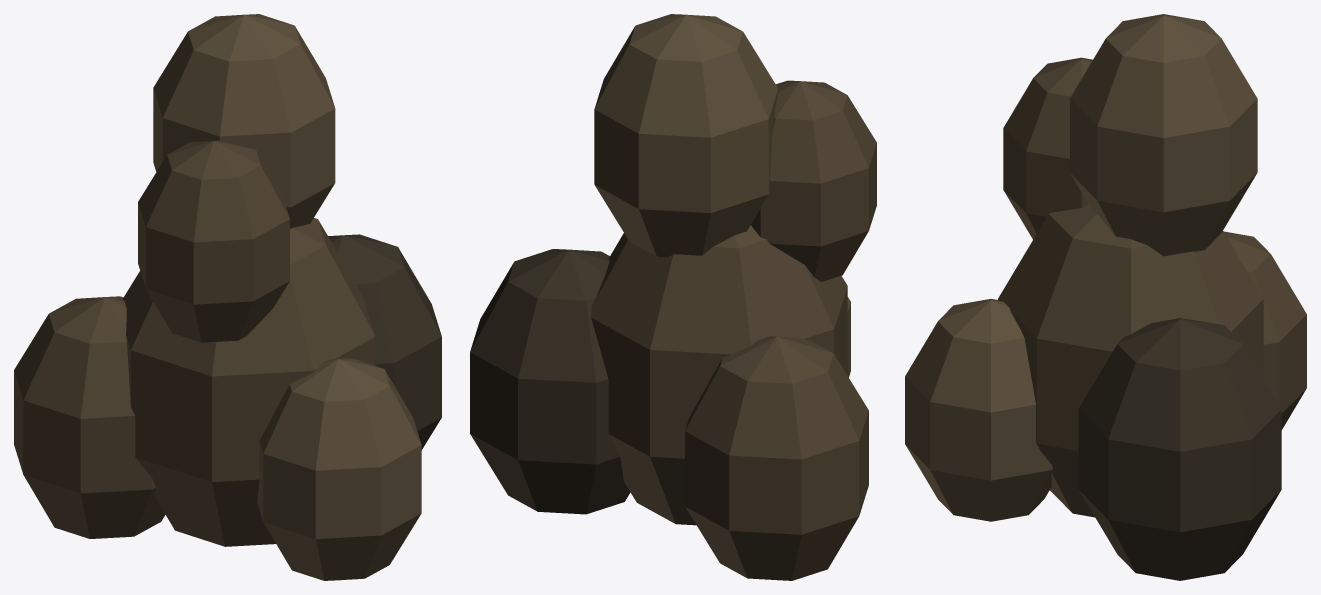
File: tree_pebblecactus_1.obj
3 renders of one model, left to right at view 1: azimuth 30°, elevation 25°; view 2: azimuth 150°, elevation 25°; view 3: azimuth 270°, elevation 25°, orthographic.
Parts seen in each view (by area): view 1: tree_pebblecactus_1; view 2: tree_pebblecactus_1; view 3: tree_pebblecactus_1.
Boxes of the visible parts, x1=… form: tree_pebblecactus_1: x1=14, y1=14, x2=441, y2=580; tree_pebblecactus_1: x1=470, y1=14, x2=876, y2=580; tree_pebblecactus_1: x1=905, y1=14, x2=1306, y2=580.
Size of the model in its own units: 0.8217 by 1.02 by 0.7331.
